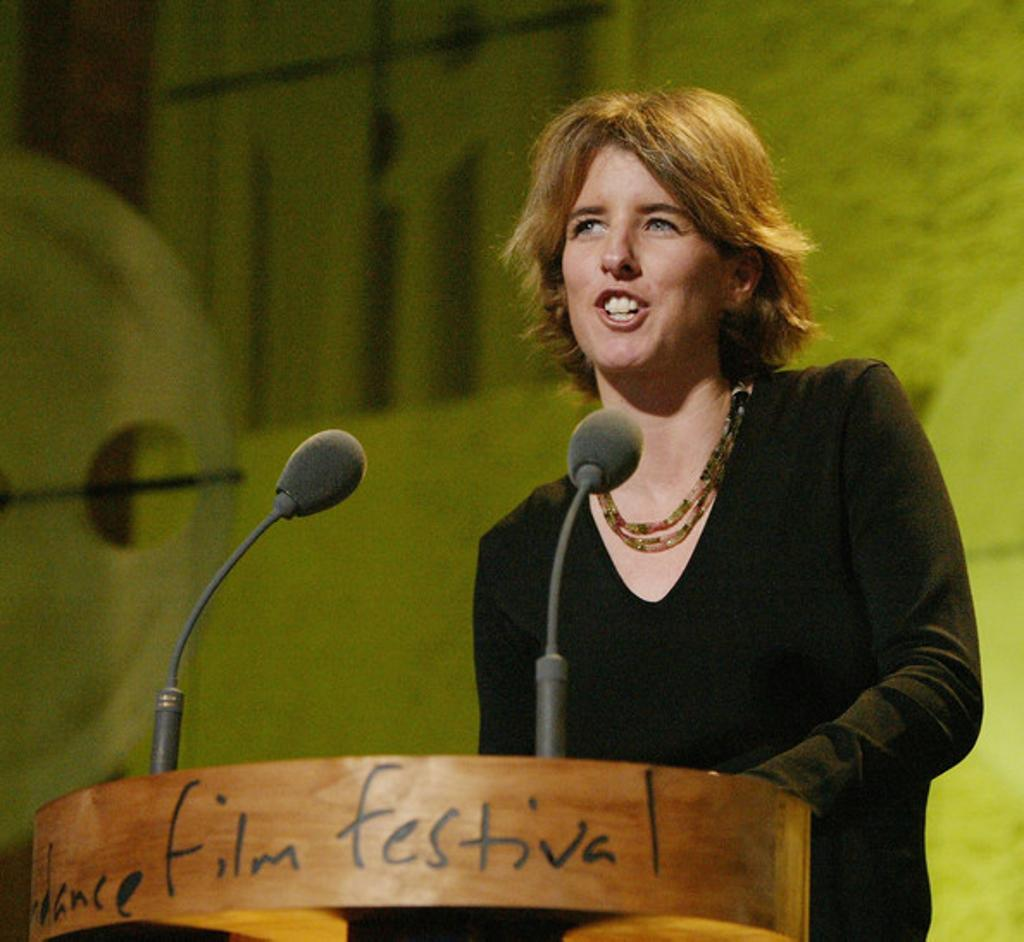face: (562, 126, 724, 372)
